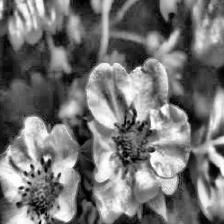Blossom Blight: (14, 156, 68, 224)
